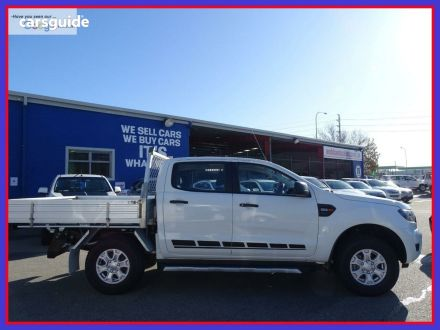Vehicle: (4, 151, 426, 298)
